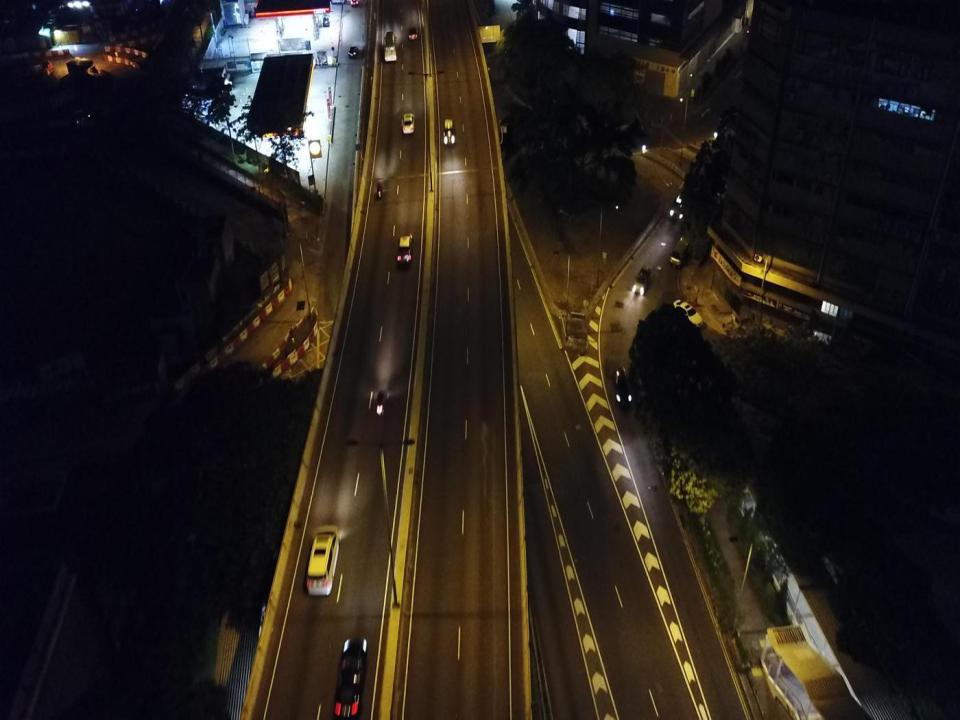car: (334, 637, 367, 718), (674, 299, 704, 328), (614, 366, 632, 406), (672, 193, 696, 221), (632, 265, 652, 296), (398, 233, 412, 268), (443, 120, 455, 146), (403, 112, 415, 134), (408, 26, 418, 41), (348, 46, 359, 57), (322, 11, 329, 26)
truck: (384, 31, 398, 61)
van: (307, 524, 340, 596), (670, 236, 692, 267)
